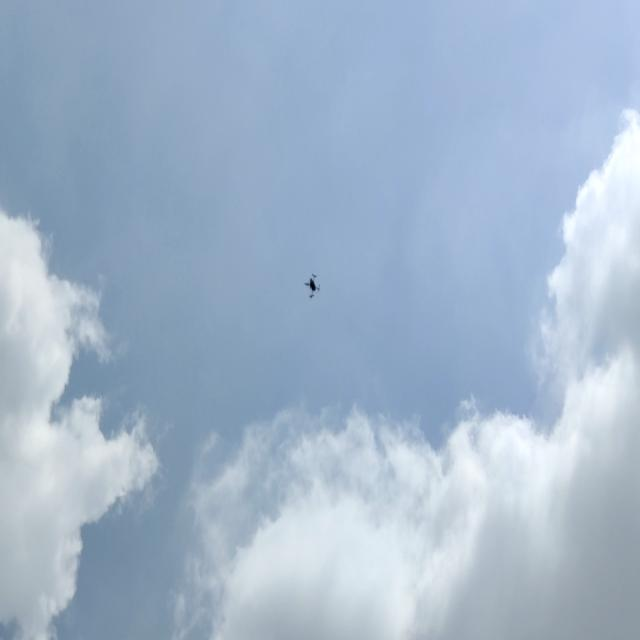drone: (301, 271, 325, 302)
